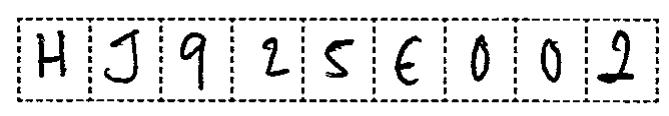0: (461, 32, 500, 84), (536, 33, 567, 85)
2: (594, 27, 638, 91), (254, 33, 294, 80)
5: (318, 34, 357, 83)
9: (176, 29, 214, 93)
E: (388, 31, 428, 93)
H: (28, 25, 73, 83)
J: (100, 24, 145, 86)
